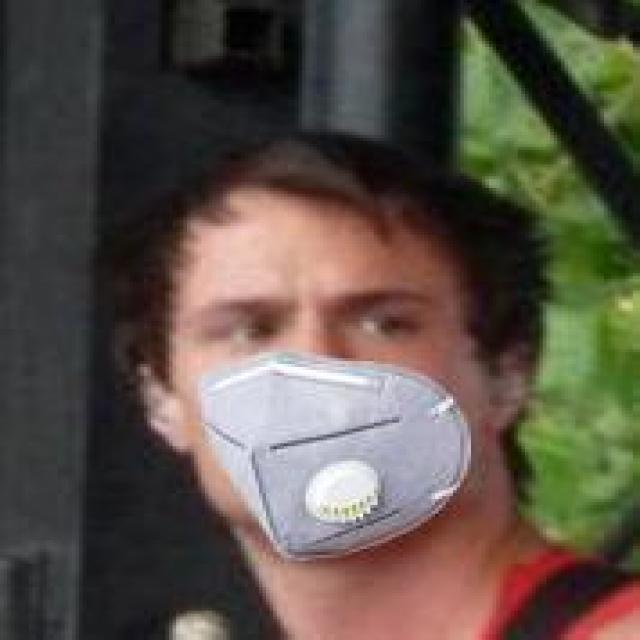mask: (126, 118, 561, 566)
